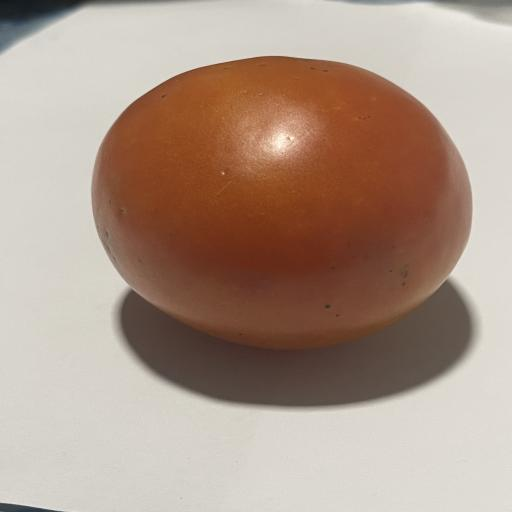unripe: (92, 57, 471, 349)
